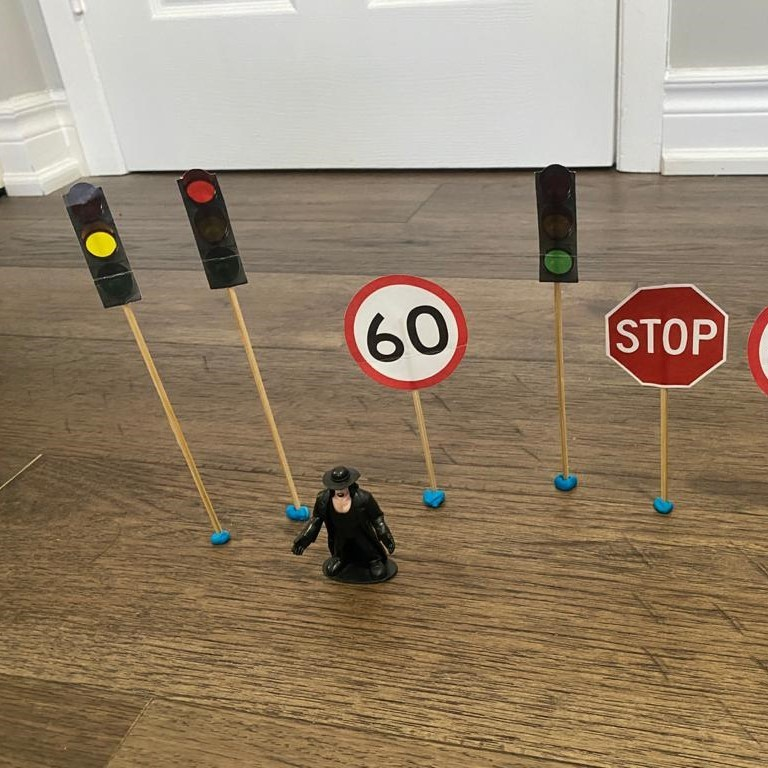Green Traffic Light: (531, 158, 583, 292)
Person: (285, 461, 407, 589)
Red Traffic Light: (174, 163, 253, 293)
Speed Limit 60: (343, 270, 474, 398)
Stop Sign: (601, 278, 734, 396)
Yellow Traffic Light: (59, 179, 146, 309)
